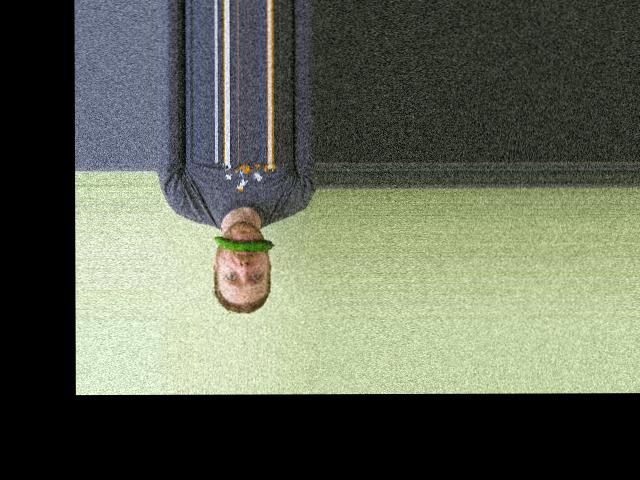cucumber: (213, 235, 275, 251)
